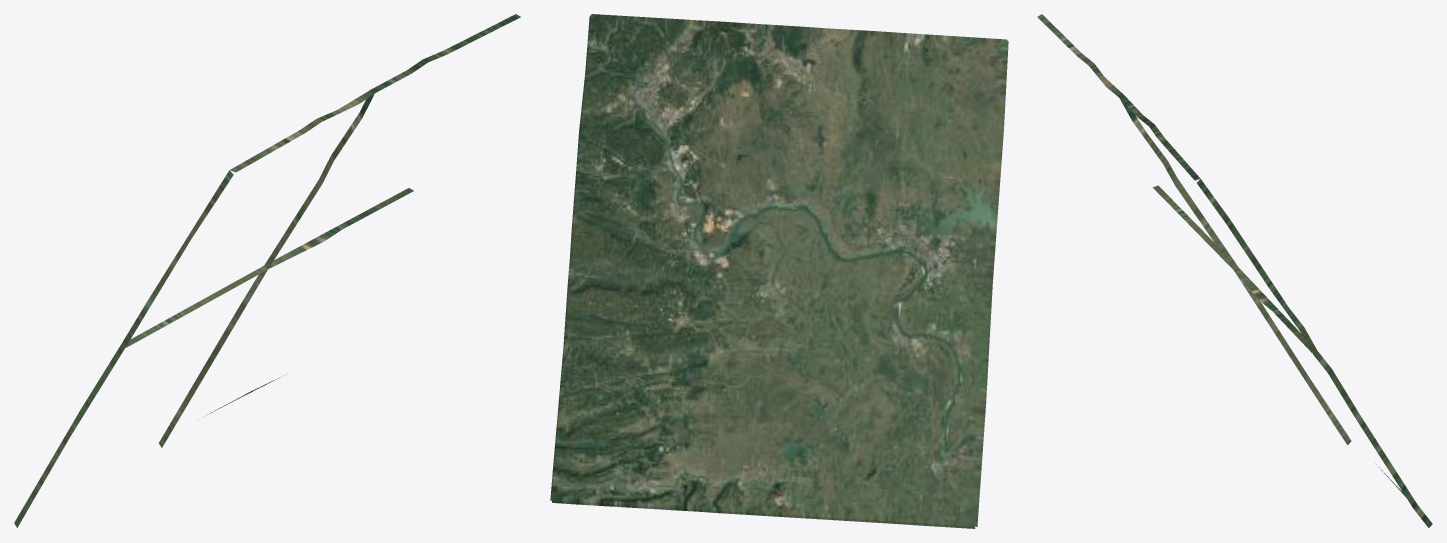
3 renders of one model, left to right at view 1: azimuth 30°, elevation 25°; view 2: azimuth 150°, elevation 25°; view 3: azimuth 270°, elevation 25°, orthographic. The views are drawn at different scales.
Size of the model in its own units: 156296 by 137841 by 126498.
1 material, 1 textured.
